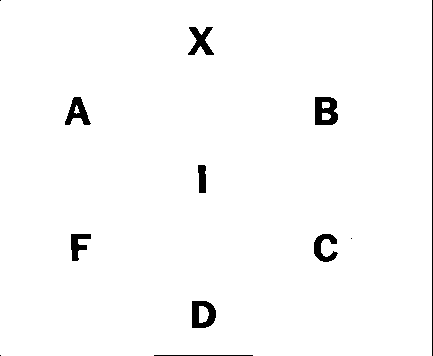I: (192, 158, 216, 201)
